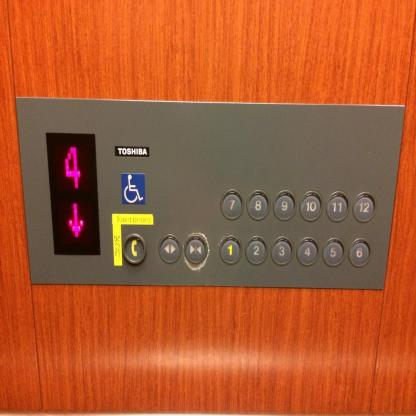1: (218, 233, 243, 264)
10: (298, 189, 323, 221)
11: (325, 190, 350, 221)
12: (352, 191, 376, 222)
2: (244, 233, 268, 264)
3: (270, 234, 294, 266)
4: (296, 235, 320, 266)
5: (321, 236, 346, 267)
6: (348, 236, 372, 268)
7: (219, 188, 244, 220)
8: (246, 189, 270, 220)
9: (272, 190, 296, 221)
CH: (120, 172, 146, 205)
call: (121, 232, 147, 265)
close: (183, 233, 208, 264)
led: (45, 132, 100, 256)
open: (158, 233, 182, 264)
